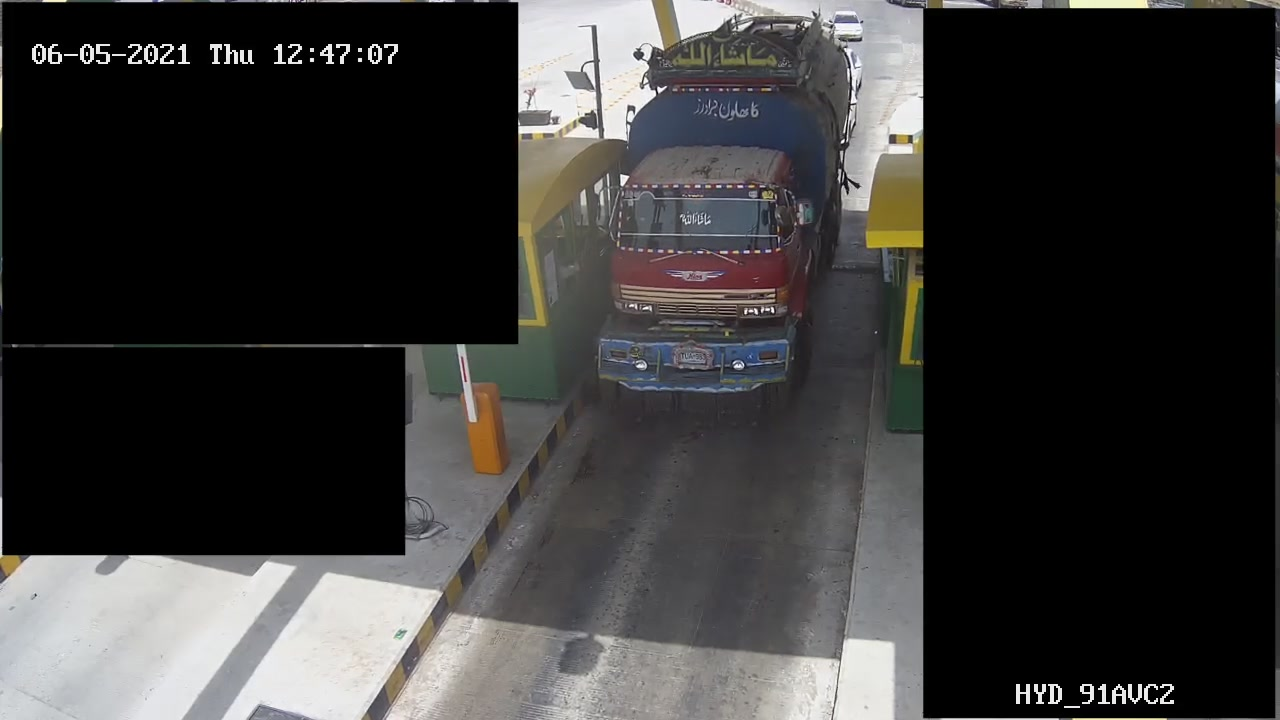F5: (591, 14, 852, 403)
